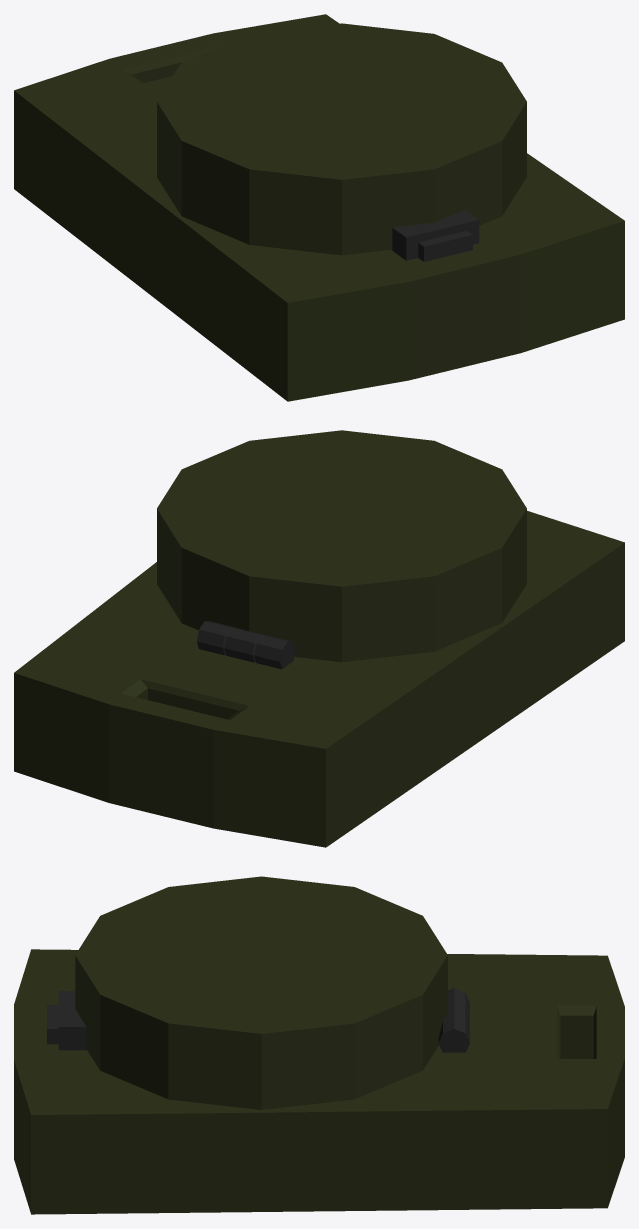
File: Compass_Closed_mat.fbx
3 renders of one model, top to bottom at view 1: azimuth 30°, elevation 25°; view 2: azimuth 150°, elevation 25°; view 3: azimuth 270°, elevation 25°, orthographic.
Visible parts, largest first — view 1: Compass_Closed_mat; view 2: Compass_Closed_mat; view 3: Compass_Closed_mat.
Boxes of the visible parts, bbox=[...] form: Compass_Closed_mat: bbox=[14, 14, 624, 401]; Compass_Closed_mat: bbox=[14, 430, 624, 847]; Compass_Closed_mat: bbox=[14, 876, 624, 1214].
Bounding box in the file's own units: 8.04 × 3.99 × 12.53.
